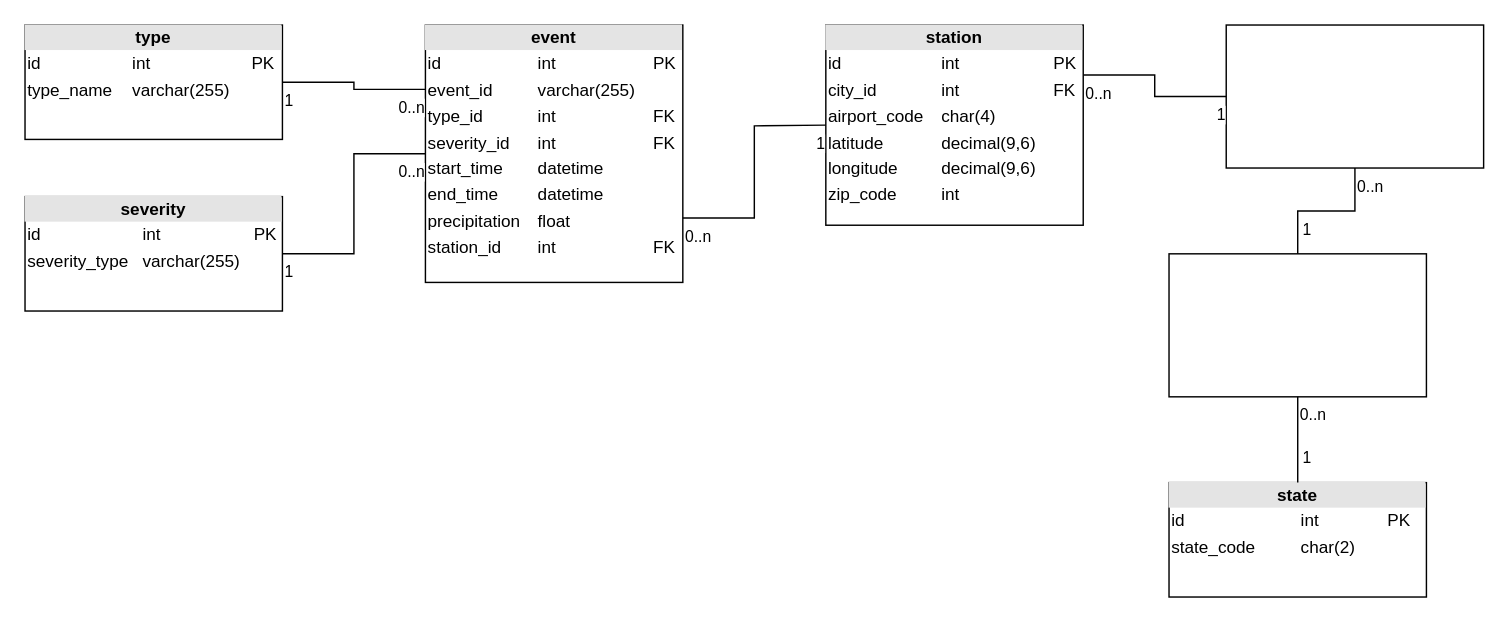
Image size: 1509x622. Some labels were removed from this diagram. Here are the shapes that lost their labels. From the top down, the centre of each, then its label:
[1354,96]: city id int PK county_id int FK city_name varchar(255) time_zone varchar(255)
[1297,324]: county id int PK state_id int FK county_name varchar(255)
